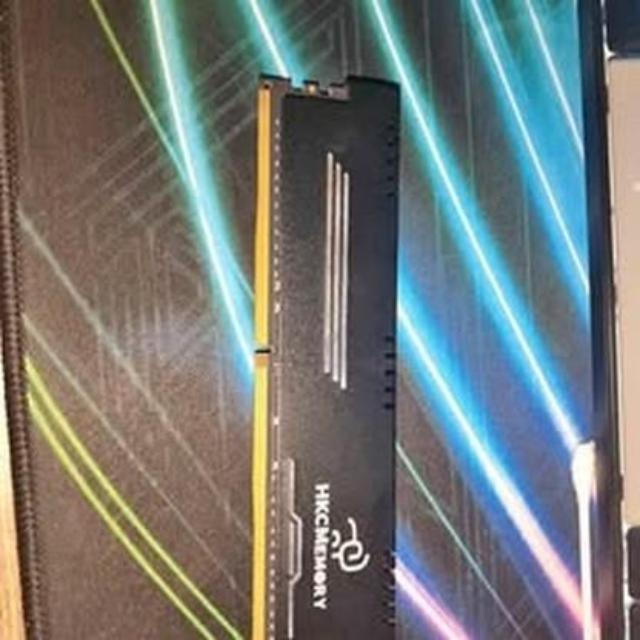RAM: (251, 62, 398, 640)
